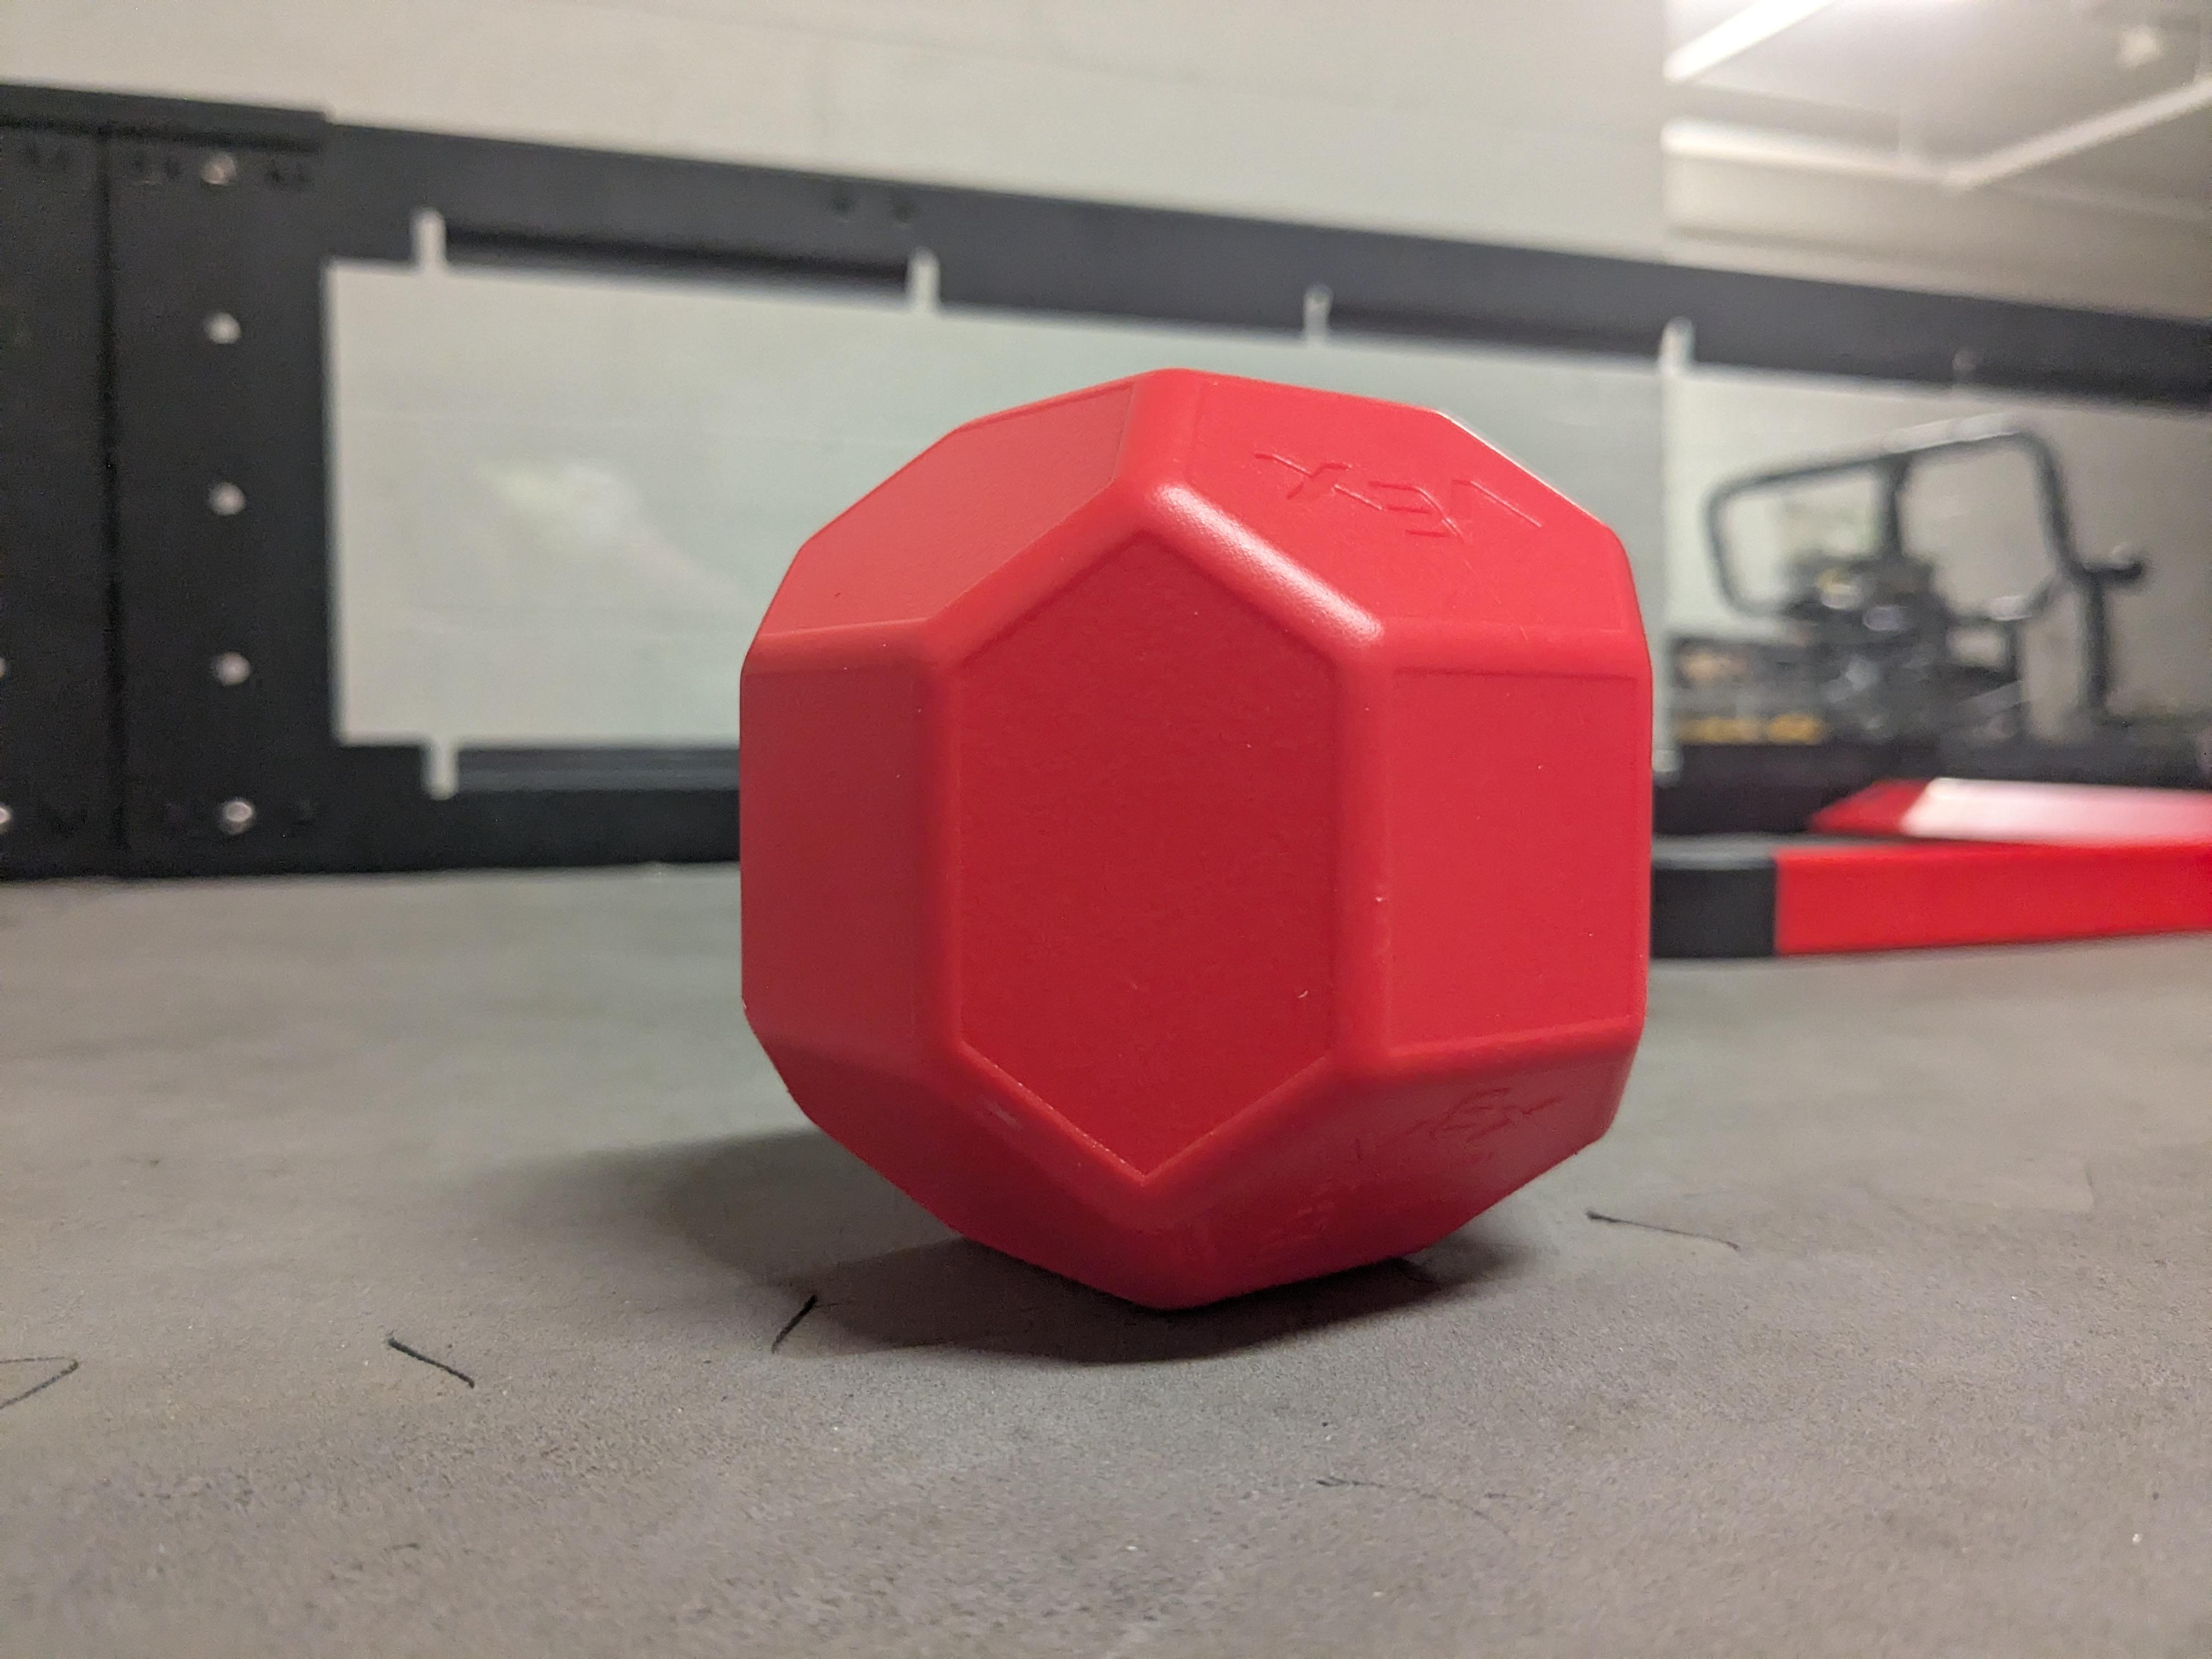Vex-Pieces-RED: (751, 375, 1655, 1291)
